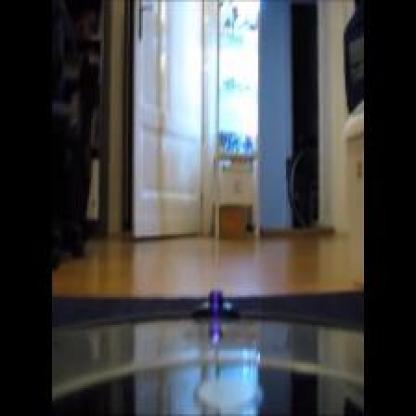other: (216, 18, 258, 140)
